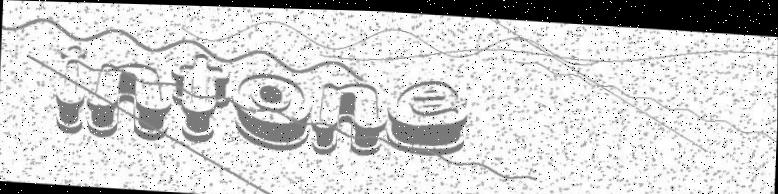e: (386, 73, 470, 156)
i: (53, 43, 88, 135)
n: (86, 56, 173, 142), (310, 77, 390, 155)
o: (230, 68, 315, 152)
t: (168, 49, 232, 143)
